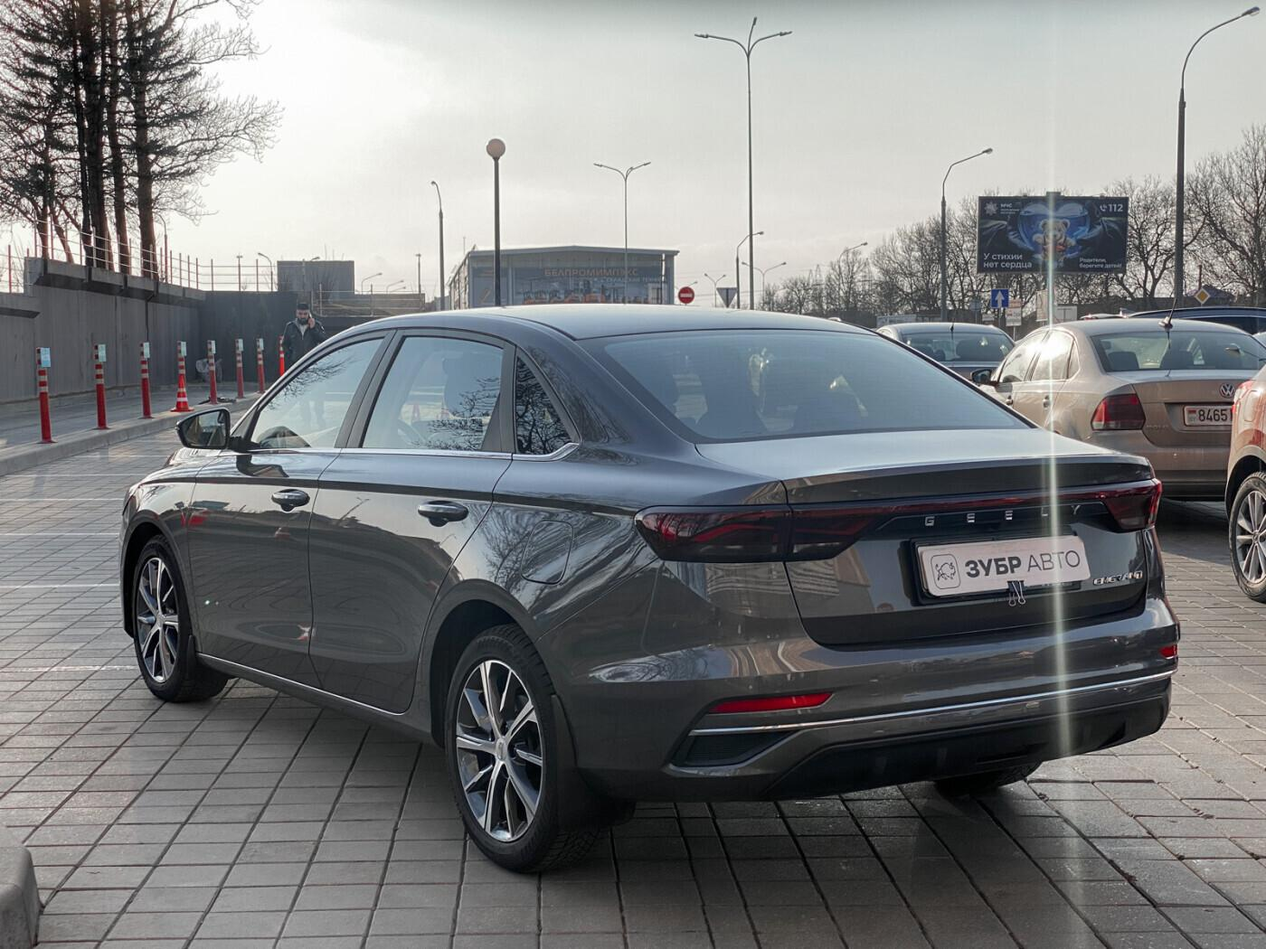Emgrand_2021: (115, 296, 1195, 860)
